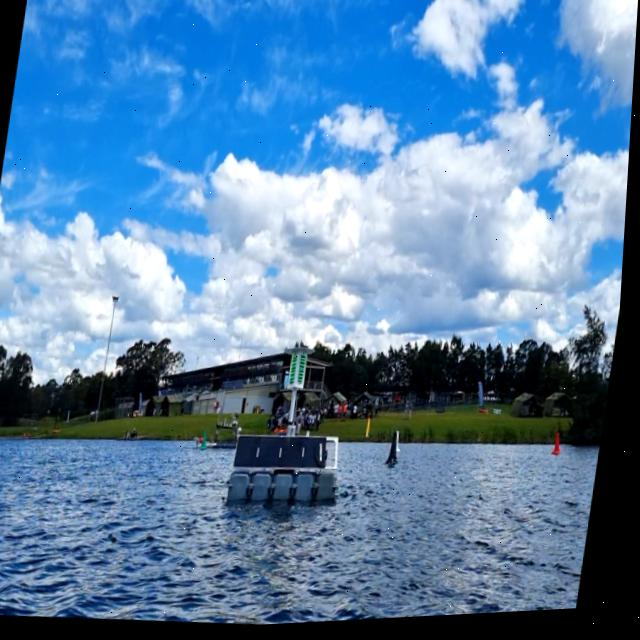led: (300, 355, 312, 390), (293, 357, 303, 388)
